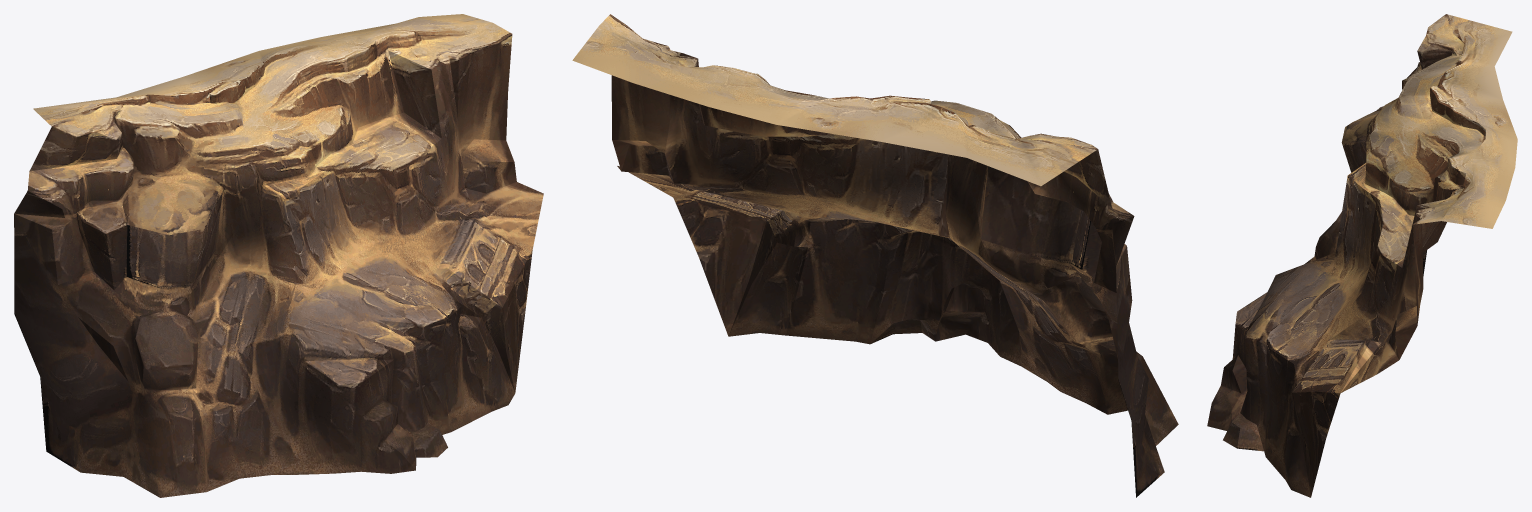
The model's file is xsm_shitou_8.FBX.
3 views of the same model, side by side, from view 1: azimuth 30°, elevation 25°; view 2: azimuth 150°, elevation 25°; view 3: azimuth 270°, elevation 25° (orthographic). The views are drawn at different scales.
Visible parts, largest first — view 1: xsm_shitou_8; view 2: xsm_shitou_8; view 3: xsm_shitou_8.
Boxes of the visible parts, left/top/right/bottom form: xsm_shitou_8: left=14, top=14, right=543, bottom=497; xsm_shitou_8: left=572, top=14, right=1178, bottom=497; xsm_shitou_8: left=1207, top=14, right=1517, bottom=497.
Size of the model in its own units: 188 by 116 by 109.
